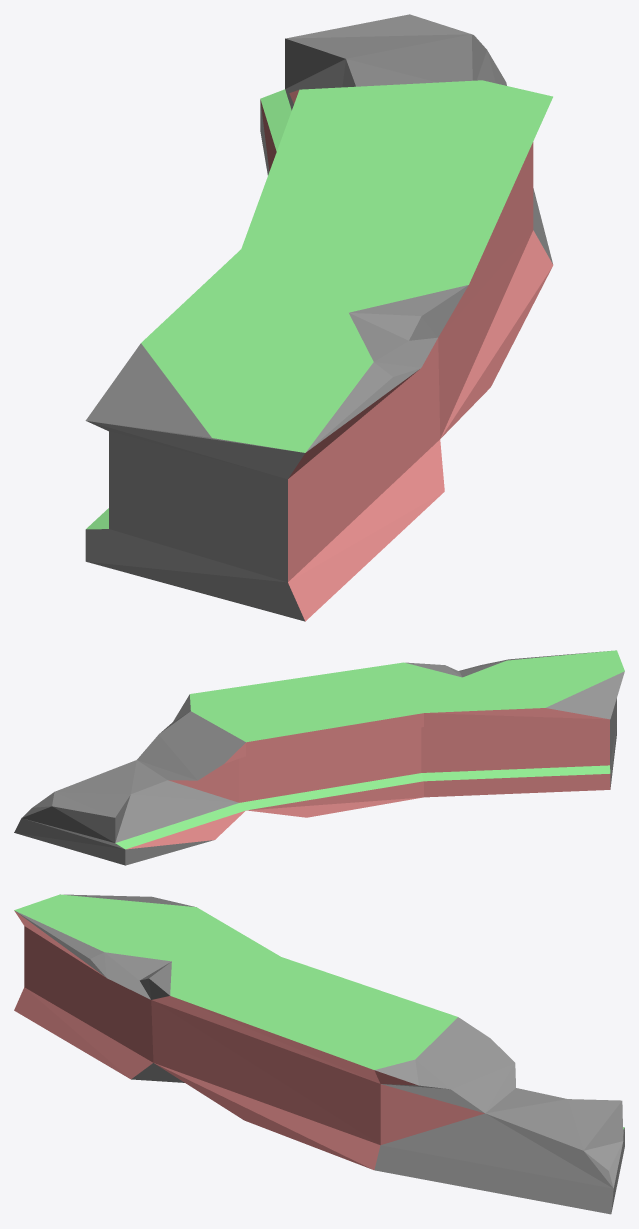
File: world_obj25.gltf
3 views of the same model, one above another, from view 1: azimuth 30°, elevation 25°; view 2: azimuth 150°, elevation 25°; view 3: azimuth 270°, elevation 25° (orthographic). The views are drawn at different scales.
Visible parts, largest first — view 1: world_obj25; view 2: world_obj25; view 3: world_obj25.
Part boxes in pixels (x1=…): world_obj25: x1=85, y1=14, x2=553, y2=621; world_obj25: x1=14, y1=650, x2=624, y2=865; world_obj25: x1=14, y1=894, x2=624, y2=1214.
Bounding box in the file's own units: 1.88 × 0.3762 × 2.08.
